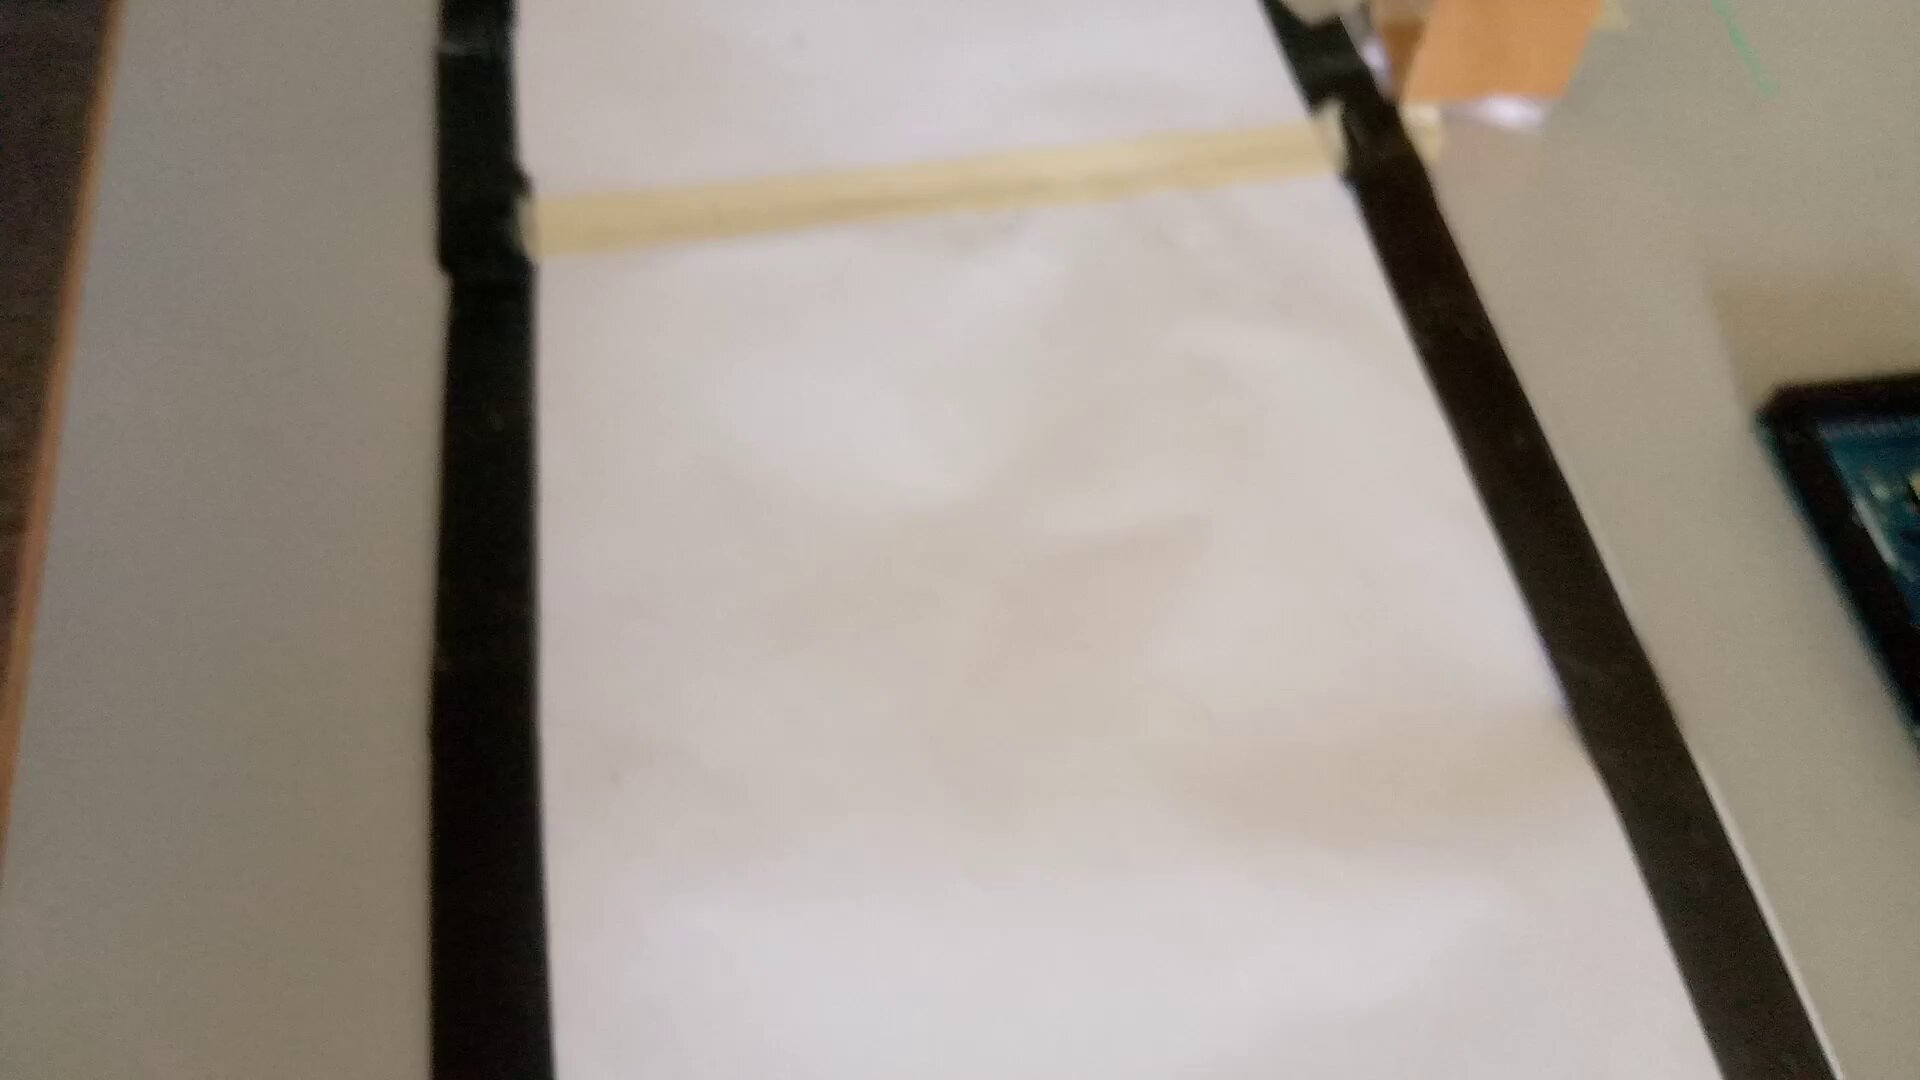forward: (425, 322, 1629, 733)
